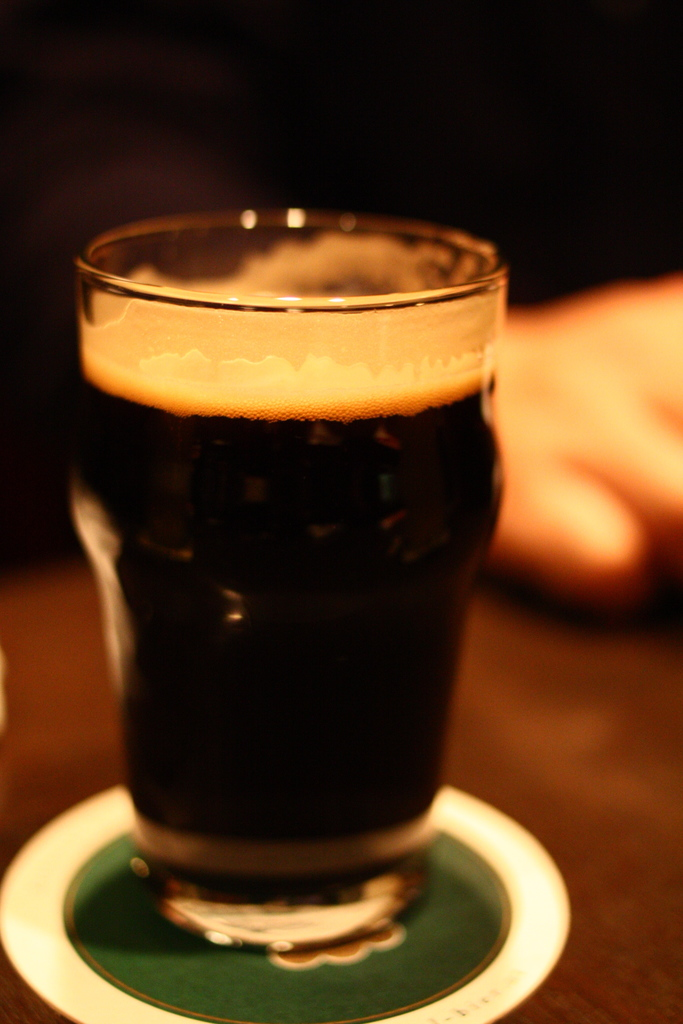Beer: (81, 197, 520, 970)
